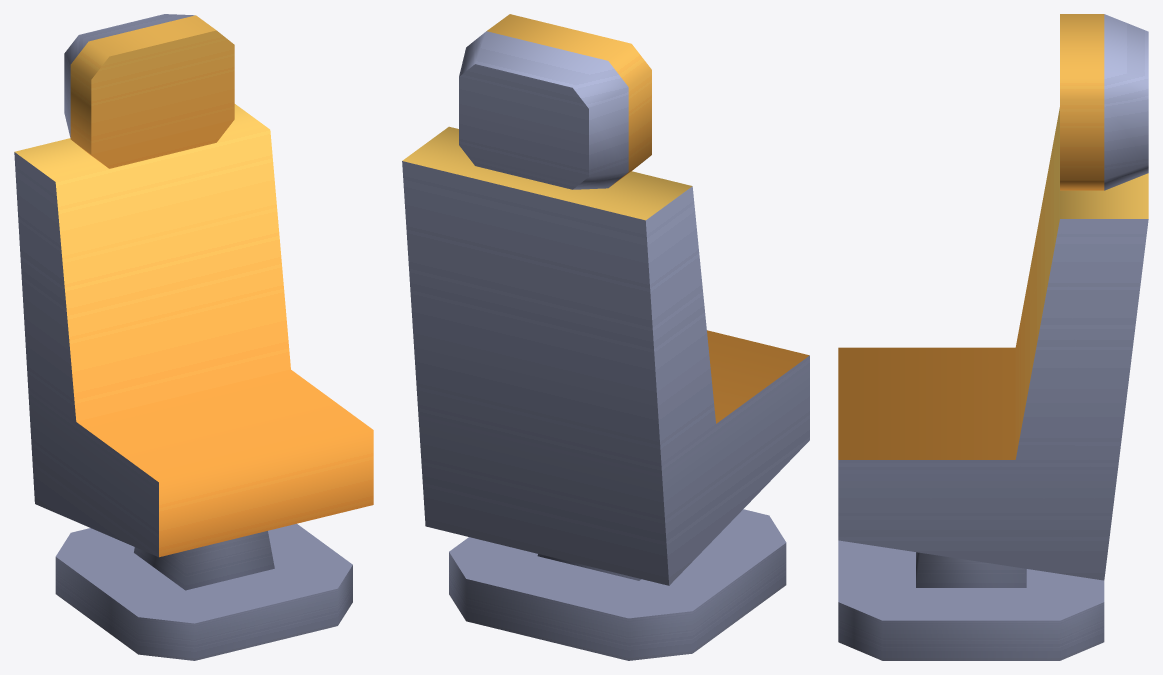
Rendered from chair-headrest.glb.
3 views of the same model, side by side, from view 1: azimuth 30°, elevation 25°; view 2: azimuth 150°, elevation 25°; view 3: azimuth 270°, elevation 25° (orthographic). The views are drawn at different scales.
Parts seen in each view (by area): view 1: chair-headrest; view 2: chair-headrest; view 3: chair-headrest.
Boxes of the visible parts, box(x1,y1,x2,y2) form: chair-headrest: box(14, 14, 373, 660); chair-headrest: box(402, 14, 809, 660); chair-headrest: box(838, 14, 1148, 660).
Bounding box in the file's own units: 0.3 × 0.7 × 0.3499.
1 material, 1 textured.
